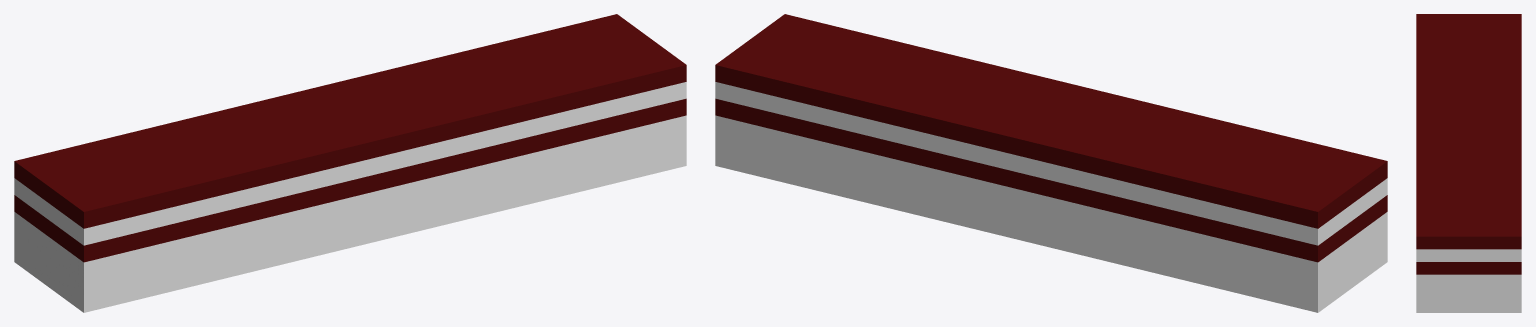
The model's file is barraAtender.fbx.
The picture shows the model from 3 angles, left to right: view 1: azimuth 30°, elevation 25°; view 2: azimuth 150°, elevation 25°; view 3: azimuth 270°, elevation 25°; orthographic projection. The views are drawn at different scales.
Visible parts, largest first — view 1: Box010; view 2: Box010; view 3: Box010.
Boxes of the visible parts, left/top/right/bottom form: Box010: left=14, top=14, right=686, bottom=312; Box010: left=715, top=14, right=1387, bottom=312; Box010: left=1416, top=14, right=1521, bottom=312.
Size of the model in its own units: 5 by 0.8 by 1.
